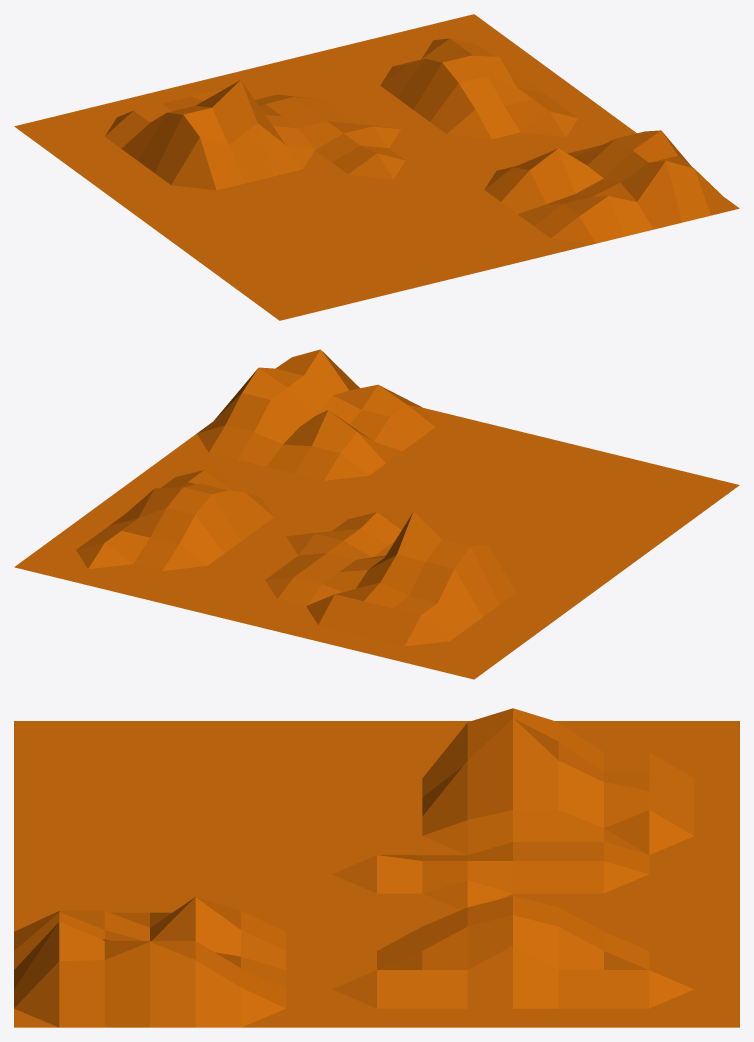
Rendered from terrain.obj.
3 renders of one model, top to bottom at view 1: azimuth 30°, elevation 25°; view 2: azimuth 150°, elevation 25°; view 3: azimuth 270°, elevation 25°, orthographic. The views are drawn at different scales.
Parts seen in each view (by area): view 1: Plane; view 2: Plane; view 3: Plane.
Boxes of the visible parts, x1,y1,x2,y2 form: Plane: (14, 14, 739, 320); Plane: (14, 349, 739, 679); Plane: (14, 708, 739, 1027).
Size of the model in its own units: 4 by 0.5997 by 4.
